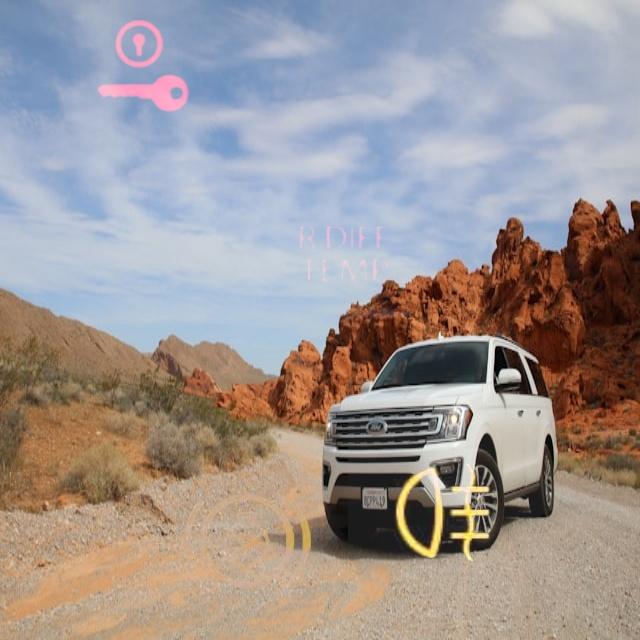symbol: (348, 417, 541, 610), (154, 450, 339, 635), (276, 187, 413, 324), (78, 2, 207, 131)
